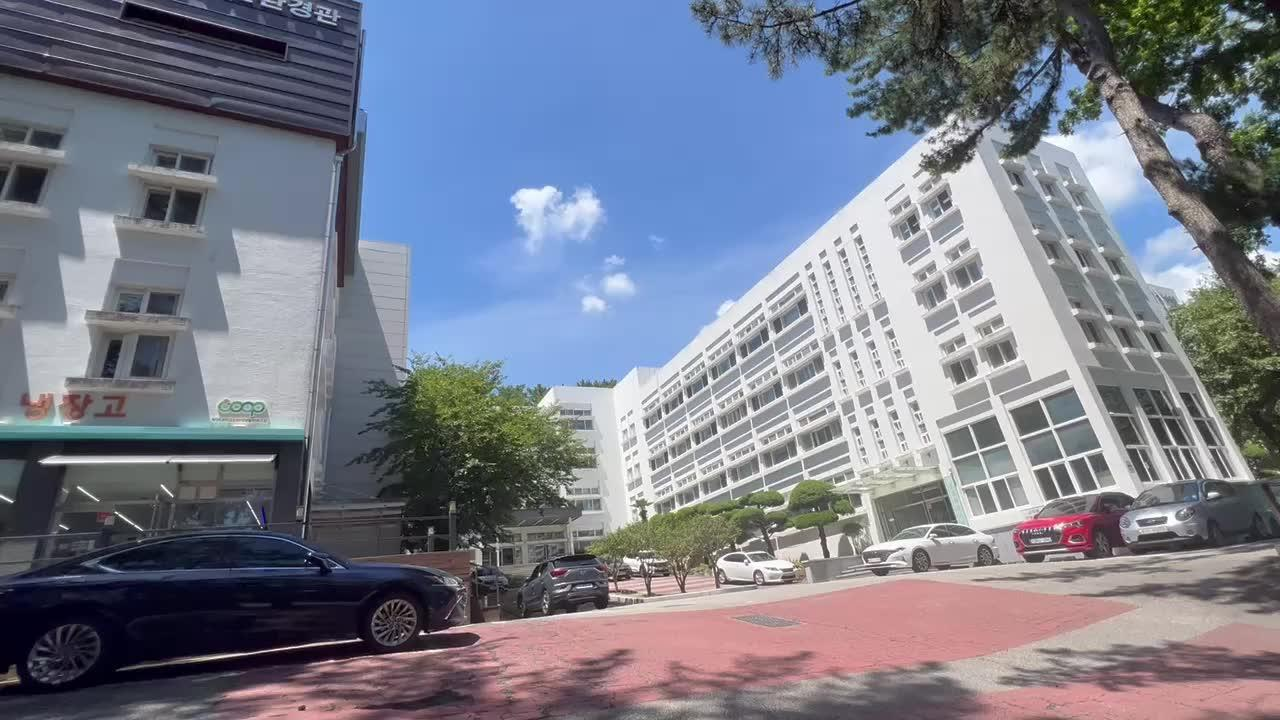building: (560, 106, 1171, 503), (0, 6, 365, 531)
